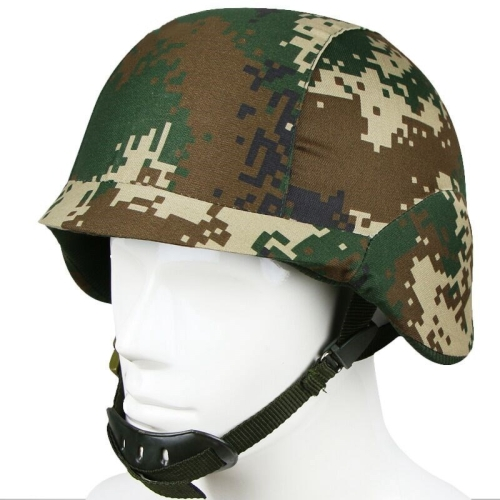helmet: (38, 9, 473, 499)
